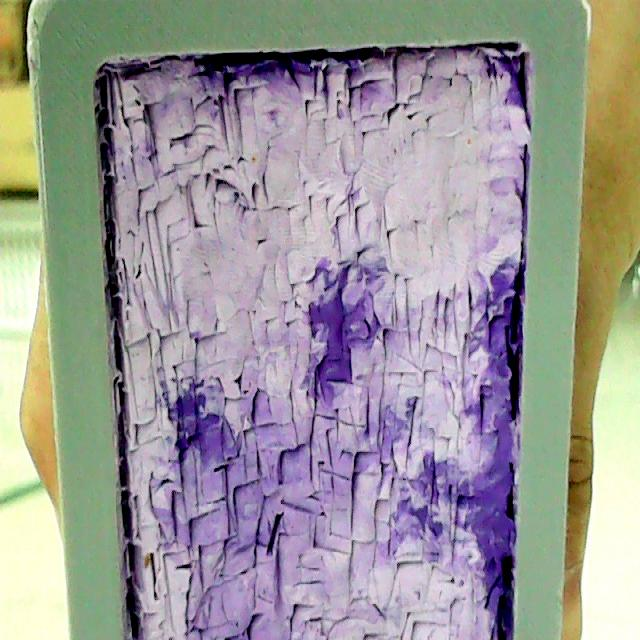block: (21, 0, 591, 623)
